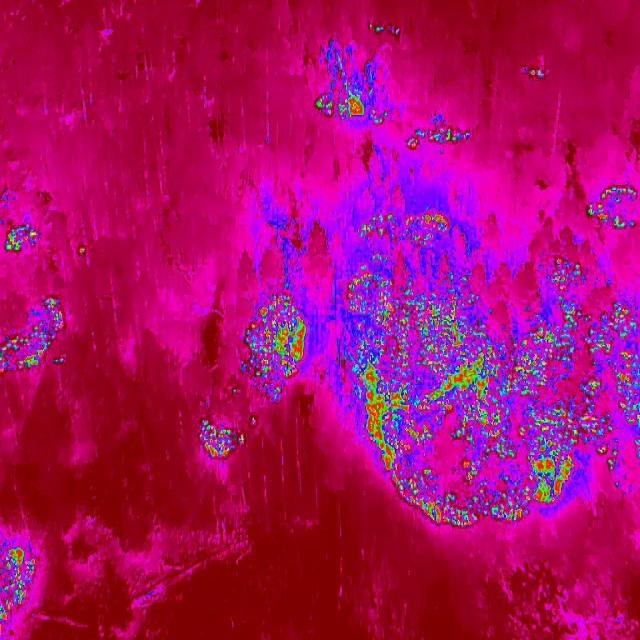fire: (335, 251, 640, 531), (230, 293, 314, 402), (0, 294, 68, 376), (355, 202, 457, 246), (313, 79, 392, 131), (196, 411, 258, 463), (0, 540, 37, 624), (584, 180, 640, 232), (406, 117, 472, 155), (3, 220, 40, 255), (367, 20, 408, 42), (518, 60, 552, 84), (74, 242, 89, 260)
